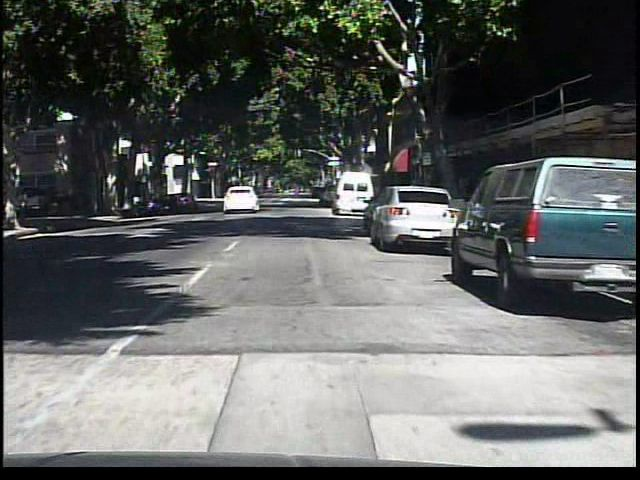person: (290, 175, 307, 205)
